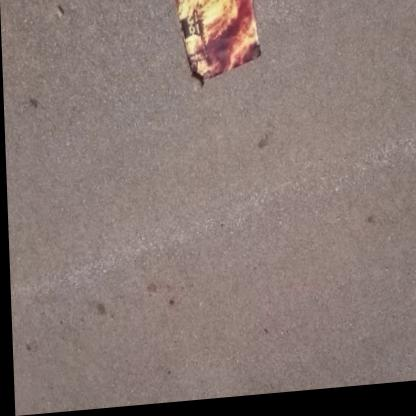fire-poster: (170, 0, 263, 95)
